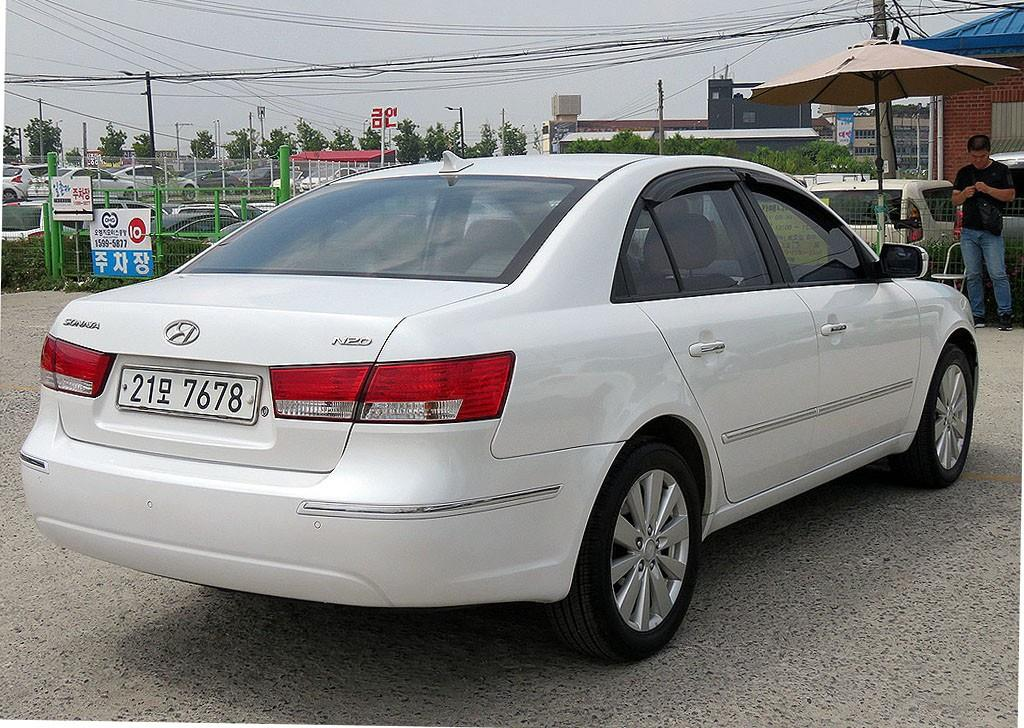plate: (118, 368, 259, 420)
